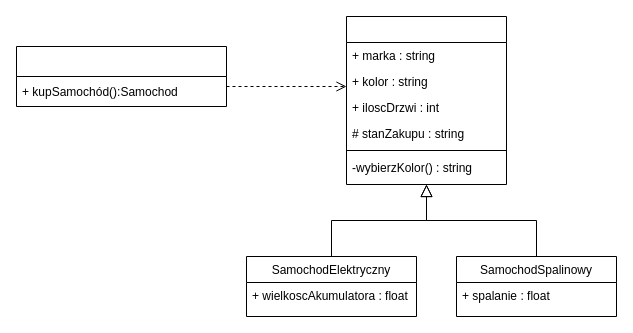
Some shapes in this 633 by 333 pixel diagram are drawn without their labels. The box of each missing label's shape, as (x1, y1, x2, y2) in pixels:
KupSamochod: (16, 46, 226, 106)
Samochod: (346, 16, 506, 184)
